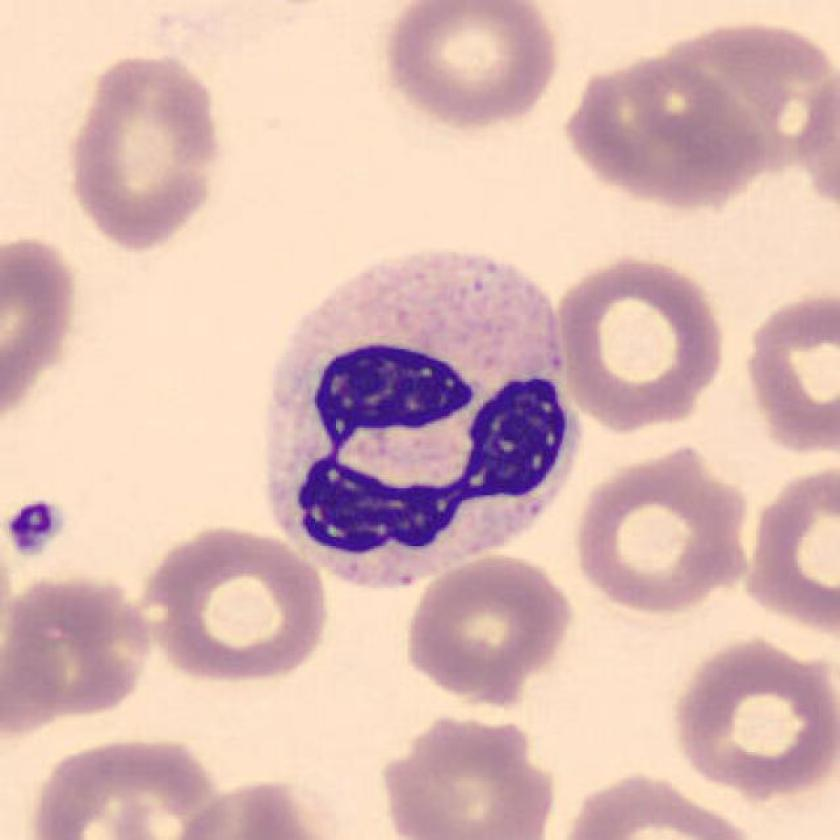neutrophil: (269, 252, 581, 589)
